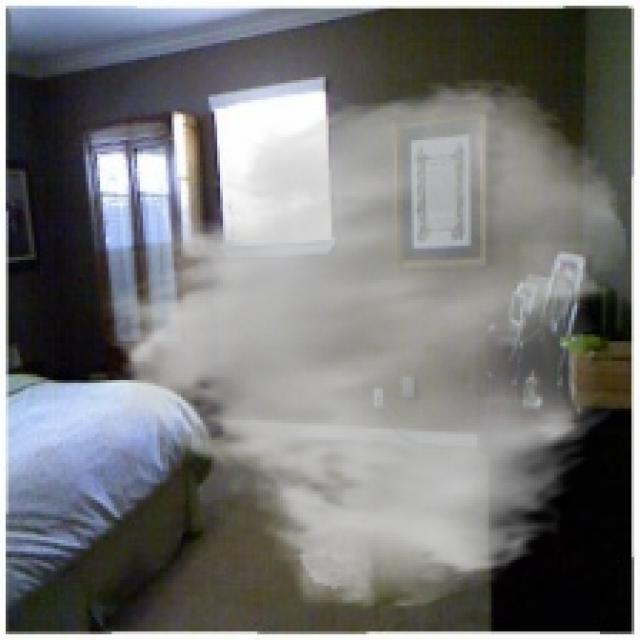smoke: (89, 75, 632, 614)
